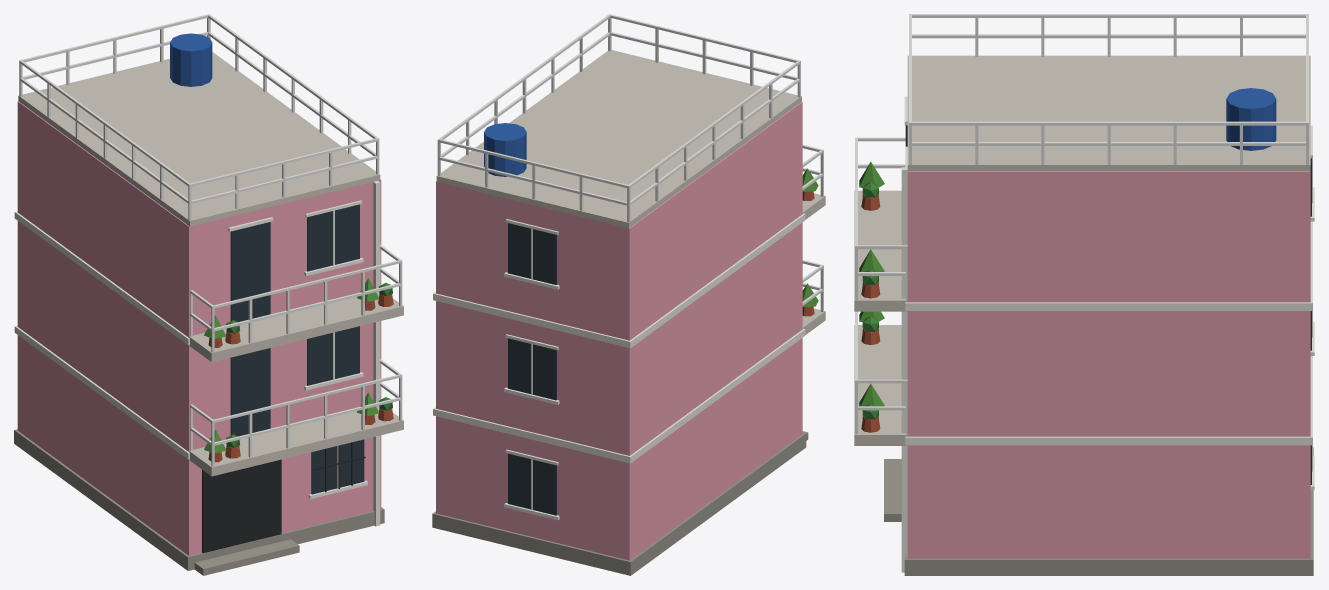
The model's file is BAY_F_ThreeStorey_P.glb.
3 renders of one model, left to right at view 1: azimuth 30°, elevation 25°; view 2: azimuth 150°, elevation 25°; view 3: azimuth 270°, elevation 25°, orthographic. The views are drawn at different scales.
Parts seen in each view (by area): view 1: BAY_F_ThreeStorey_P; view 2: BAY_F_ThreeStorey_P; view 3: BAY_F_ThreeStorey_P.
Boxes of the visible parts, x1=… form: BAY_F_ThreeStorey_P: x1=14, y1=14, x2=403, y2=575; BAY_F_ThreeStorey_P: x1=432, y1=14, x2=825, y2=575; BAY_F_ThreeStorey_P: x1=854, y1=14, x2=1314, y2=575.
Bounding box in the file's own units: 4.5 × 8.4 × 7.77.
Materials: 1 (1 with a texture image).
